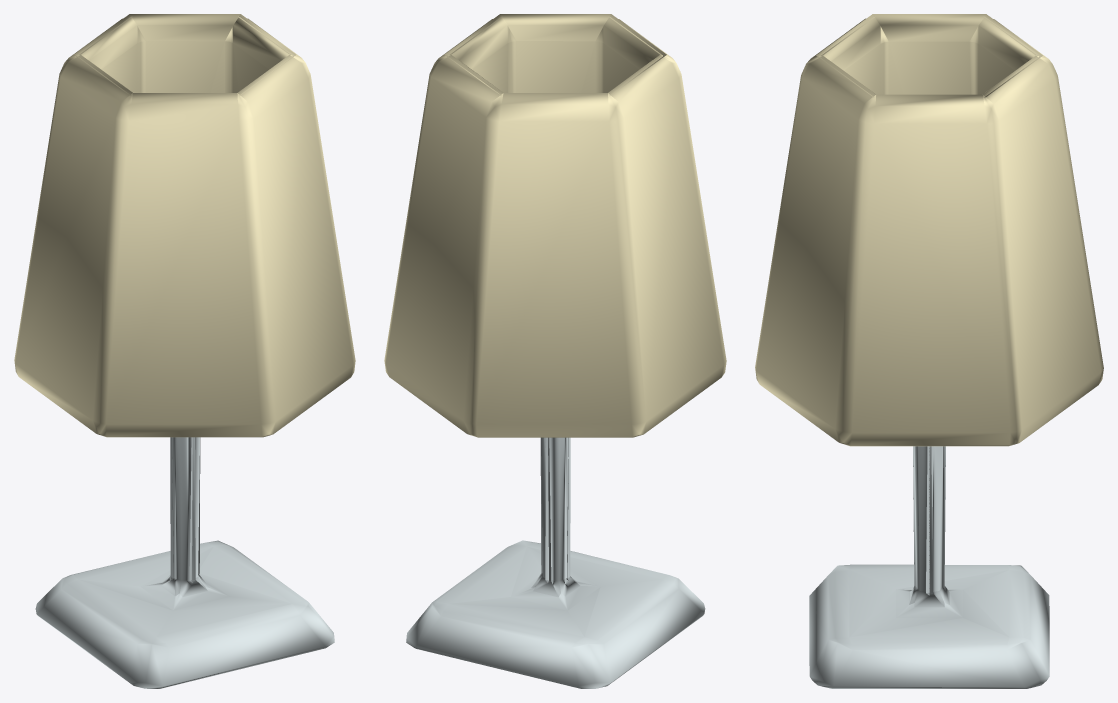
Rendered from lamp.glb.
The picture shows the model from 3 angles, left to right: view 1: azimuth 30°, elevation 25°; view 2: azimuth 150°, elevation 25°; view 3: azimuth 270°, elevation 25°; orthographic projection. The views are drawn at different scales.
Parts seen in each view (by area): view 1: tableLamp_lampRoundTable(Clone); view 2: tableLamp_lampRoundTable(Clone); view 3: tableLamp_lampRoundTable(Clone).
Part boxes in pixels (x1,y1,x2,y2): tableLamp_lampRoundTable(Clone): (14,14,355,688); tableLamp_lampRoundTable(Clone): (384,14,726,688); tableLamp_lampRoundTable(Clone): (755,14,1103,688).
Bounding box in the file's own units: 0.4183 × 0.8799 × 0.4753.
